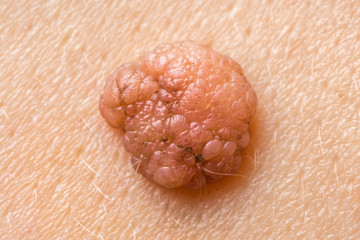melanoma: (78, 26, 279, 198)
